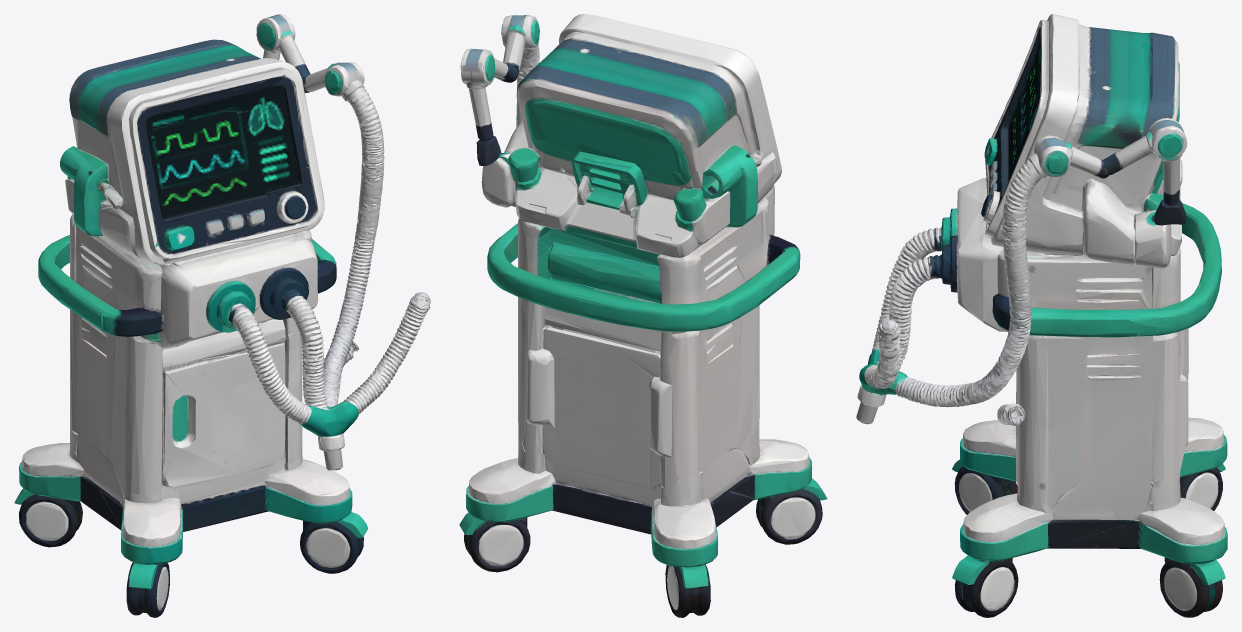
File: ventilator.glb
3 views of the same model, side by side, from view 1: azimuth 30°, elevation 25°; view 2: azimuth 150°, elevation 25°; view 3: azimuth 270°, elevation 25° (orthographic). The views are drawn at different scales.
Parts seen in each view (by area): view 1: Mesh_0; view 2: Mesh_0; view 3: Mesh_0.
Part boxes in pixels (bbox=[...]): Mesh_0: bbox=[14, 14, 430, 617]; Mesh_0: bbox=[459, 14, 827, 617]; Mesh_0: bbox=[856, 14, 1227, 617].
Size of the model in its own units: 1.12 by 1.89 by 1.24.
1 material, 1 textured.
